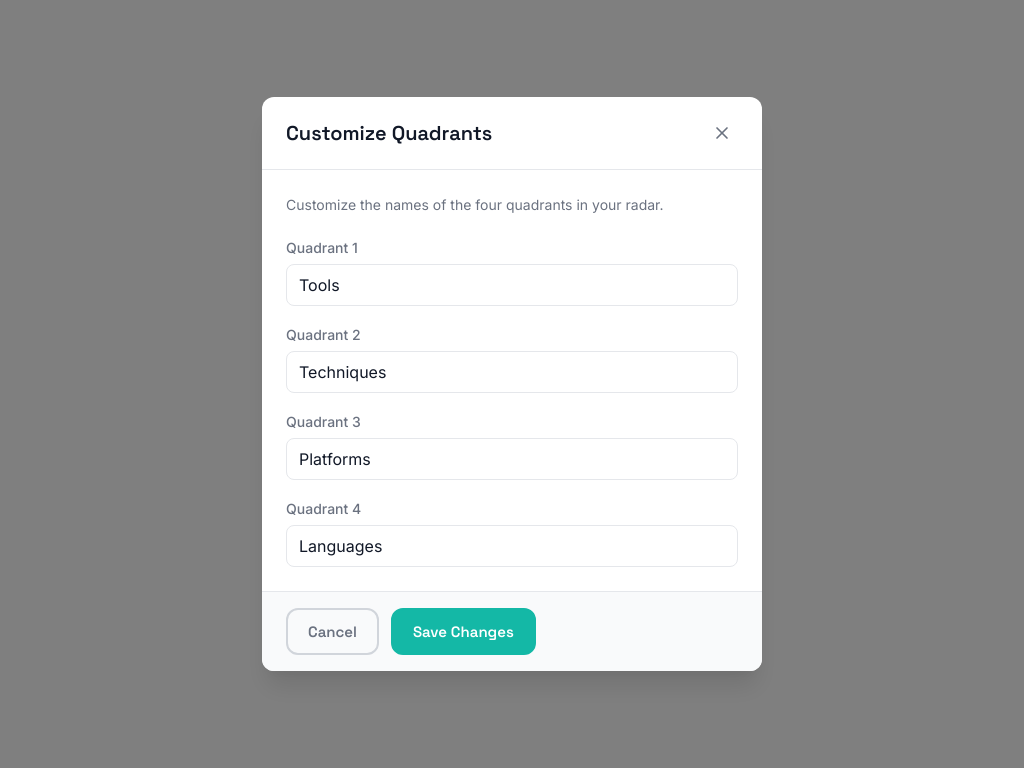
Test case: CustomizeQuadrantsModal › Validation › should clear error when user starts typing
Clear the field labelled "Quadrant 1" at (512, 285), box [286, 264, 738, 306]
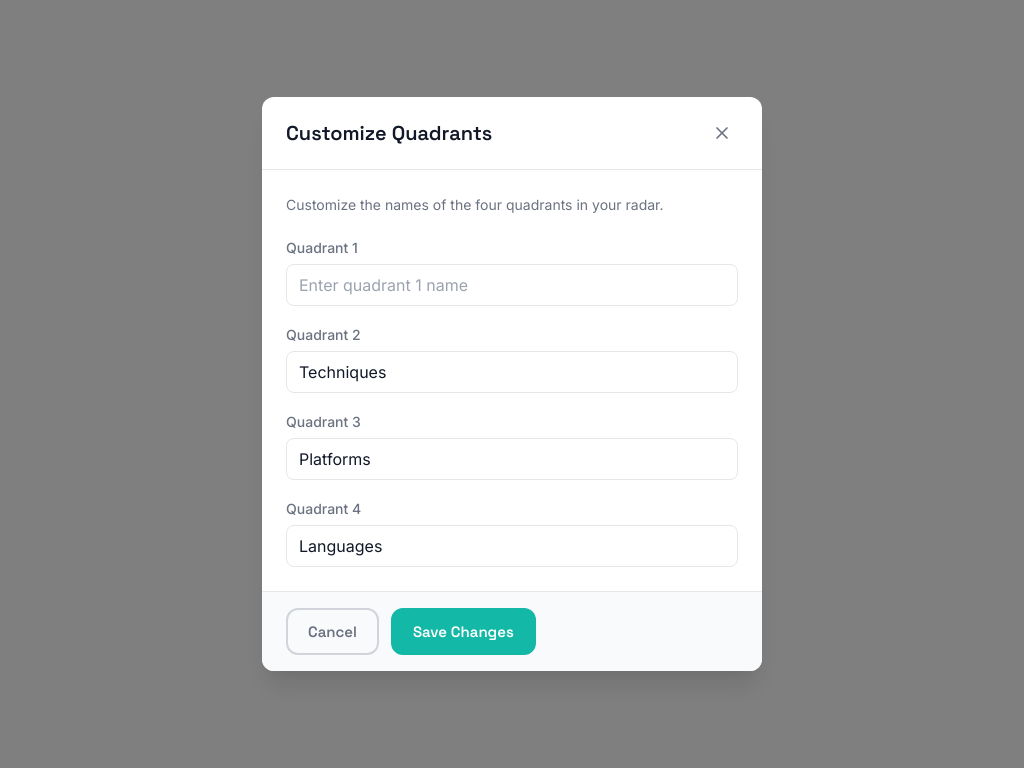
Click the button "Save Changes" at (463, 632), box [391, 608, 536, 655]
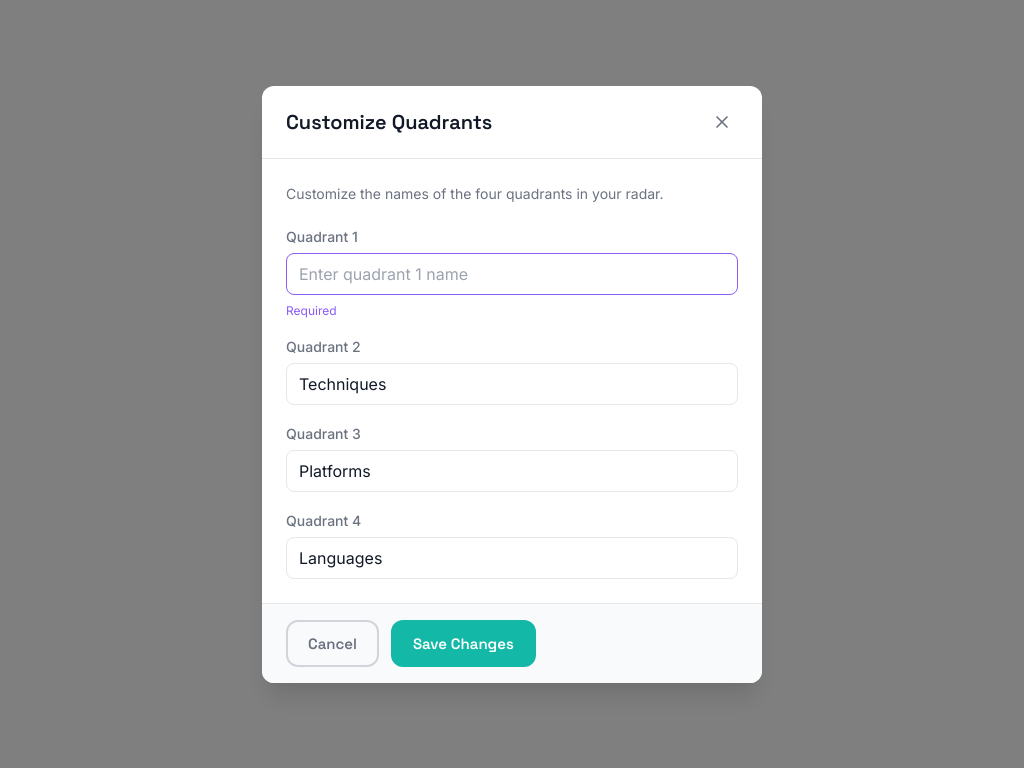
Result: the text "Required" is shown at [286, 302, 337, 318]
Note: Start typing
Type "New Name" into the field labelled "Quadrant 1" at (512, 274), box [286, 252, 738, 294]
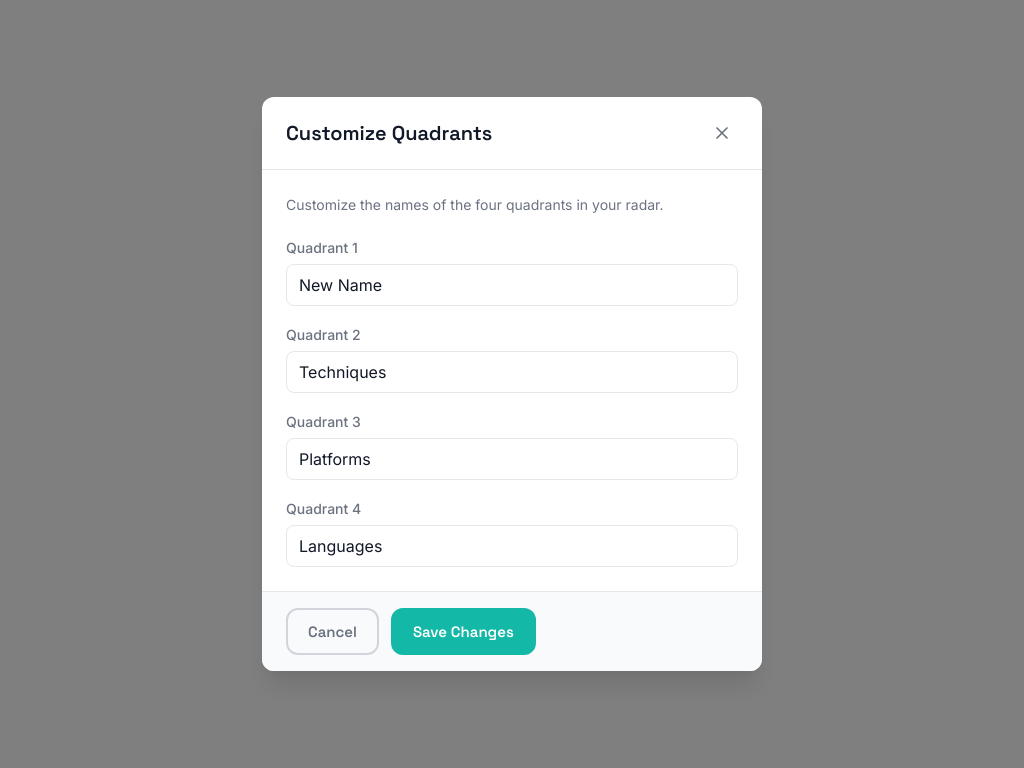
Result: the text "Required" is gone
